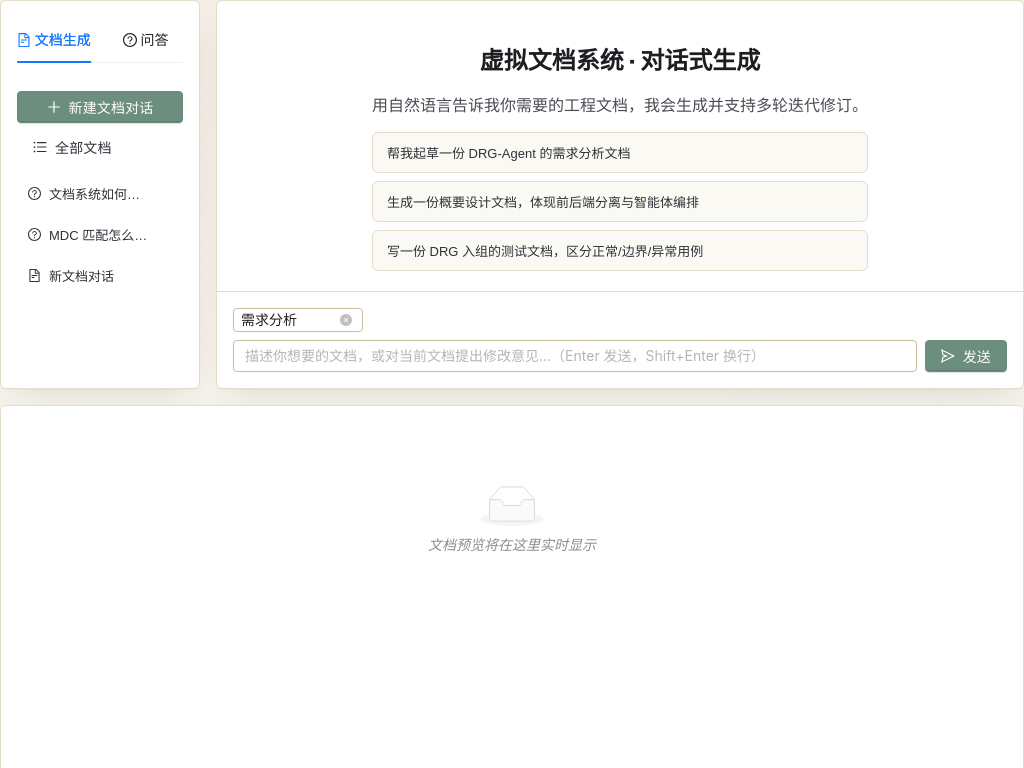
Test case: DocumentSystem (对话工作台) › falls back to the compatible QA endpoint when streaming cannot start
Click the tab "问答" at (146, 40), box x1=123 y1=29 x2=169 y2=51
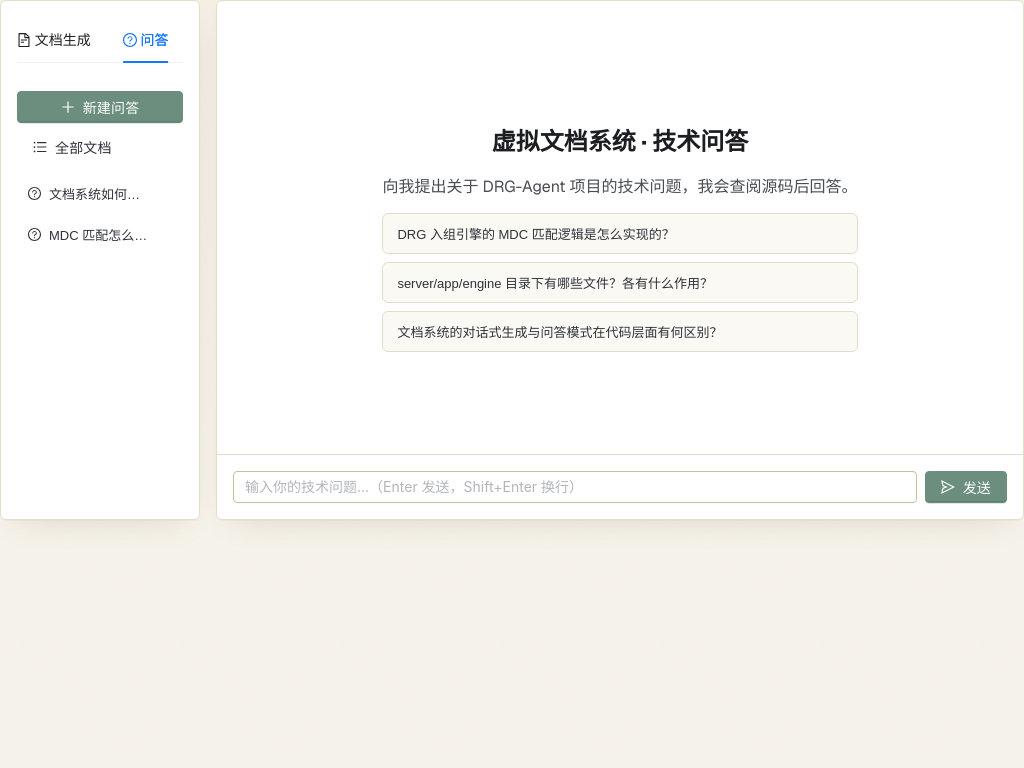
Type "MDC 匹配怎么实现" into the text box with placeholder "输入你的技术问题…（Enter 发送，Shift+Enter 换行）" at (575, 487), box x1=233 y1=471 x2=917 y2=503
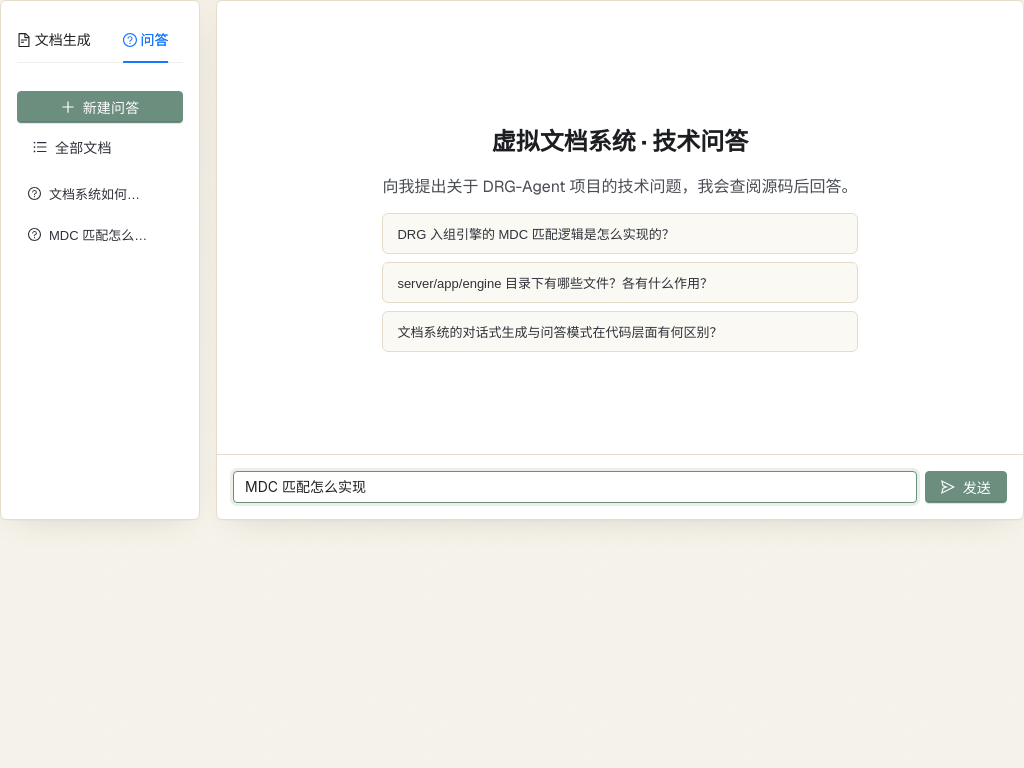
Click the button "发送" at (966, 487), box x1=925 y1=471 x2=1007 y2=503
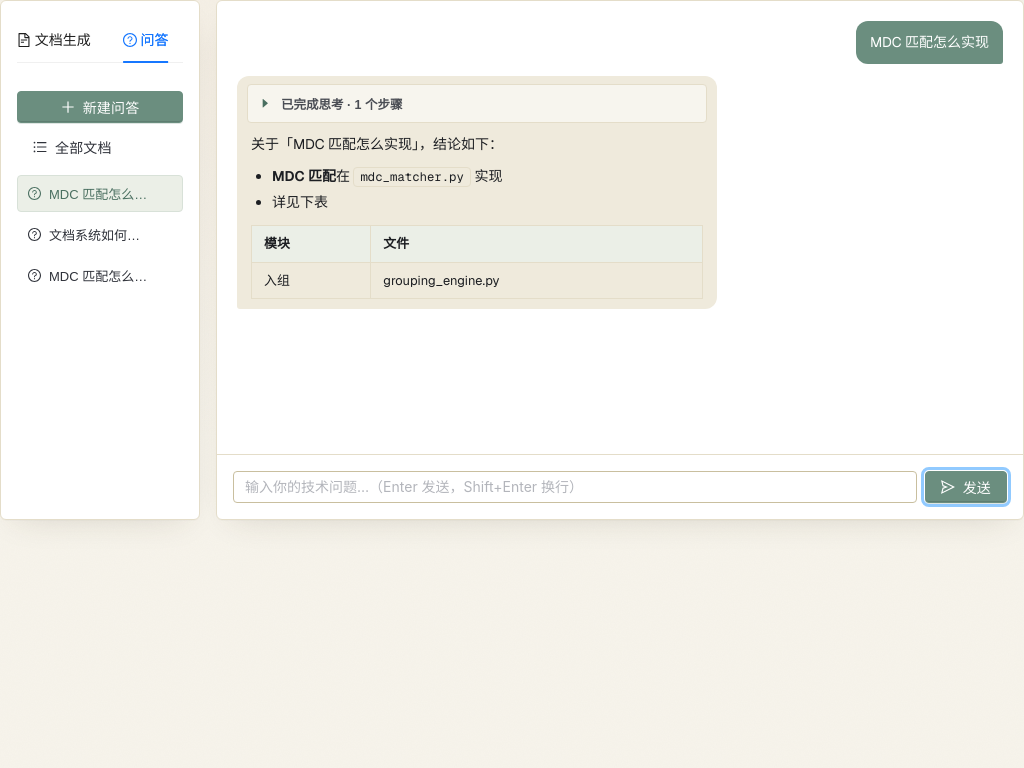
Expected: the text "MDC 匹配" is shown, x1=272 y1=167 x2=336 y2=185
Click the button with aria-label "展开思考过程" at (342, 105), box x1=248 y1=85 x2=706 y2=122
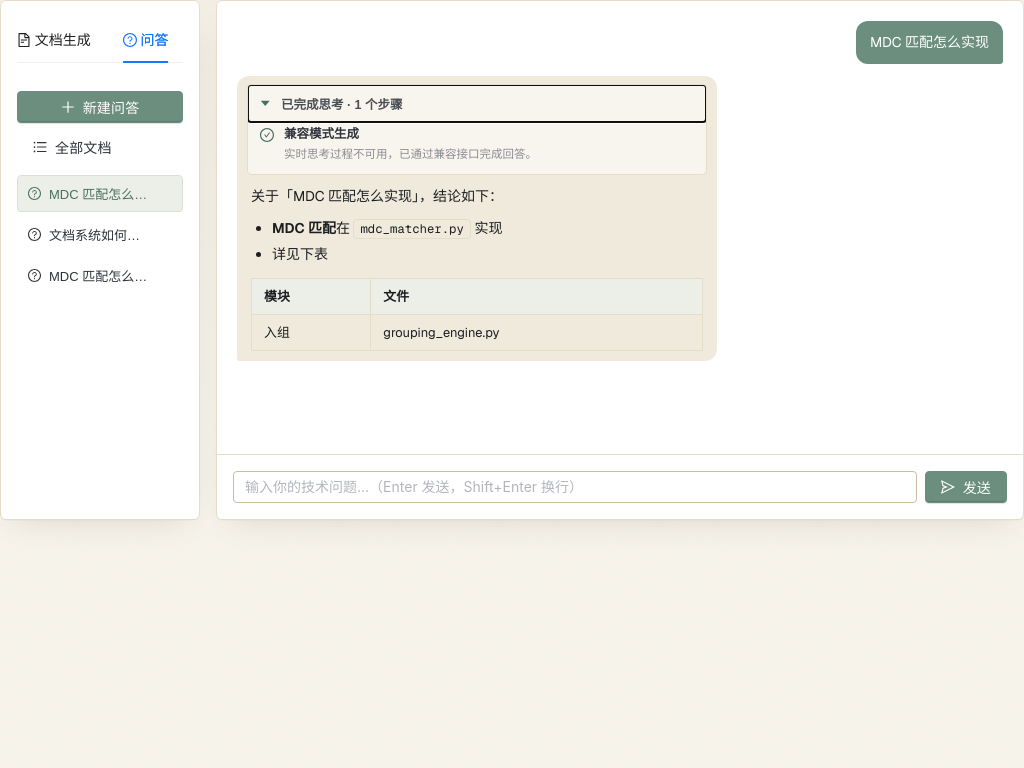
Expected: the text "兼容模式生成" is shown, x1=284 y1=125 x2=359 y2=142
